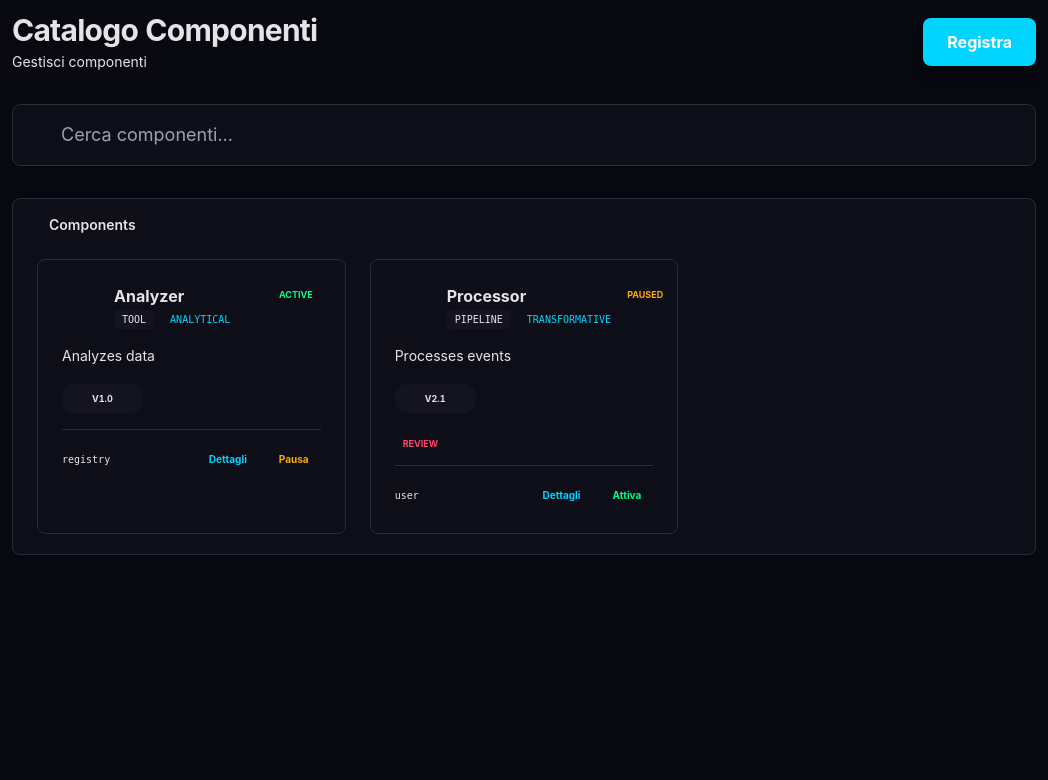
Scenario: ComponentsView › filters components by search query
Type "Analyzer" into the field with placeholder "Cerca componenti..." at (524,135), box x1=12 y1=104 x2=1036 y2=166
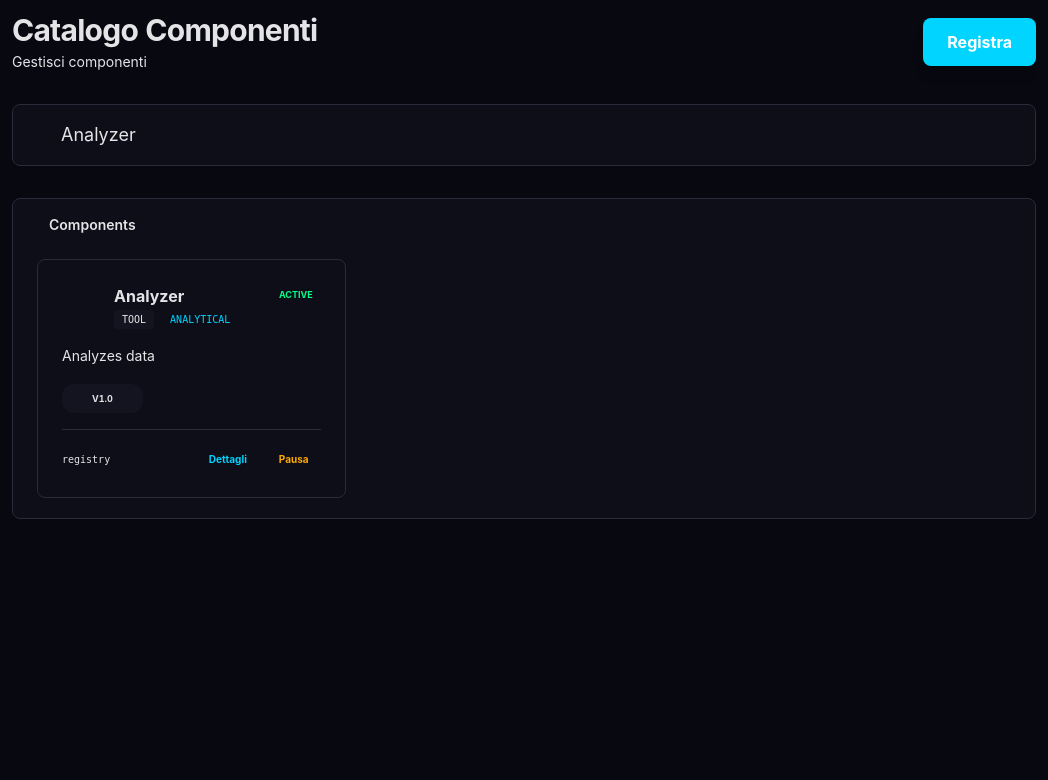
Expected: the heading "Analyzer" is shown, x1=114 y1=286 x2=184 y2=306
Expected: the heading "Processor" is gone
